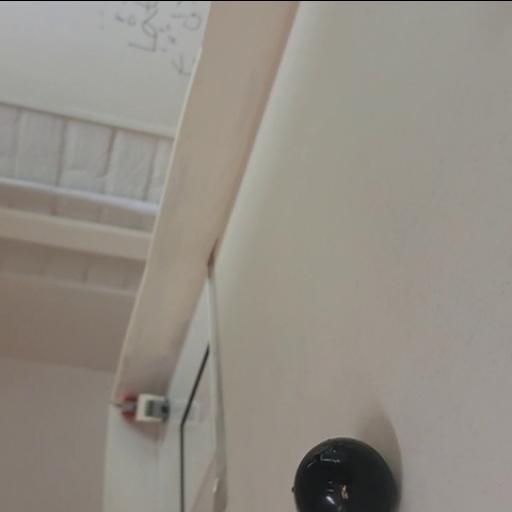dead: (290, 435, 396, 512)
